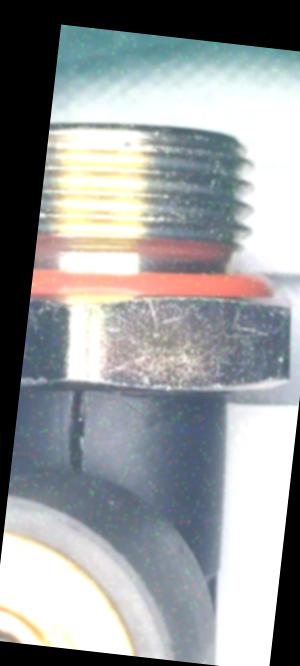craze: (58, 388, 95, 478)
